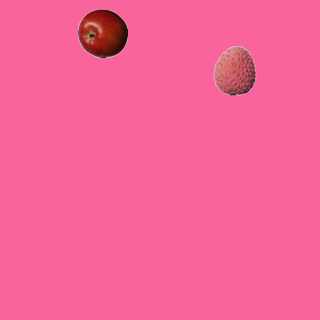Apple Braeburn: (77, 8, 127, 58)
Lychee: (209, 45, 259, 95)
